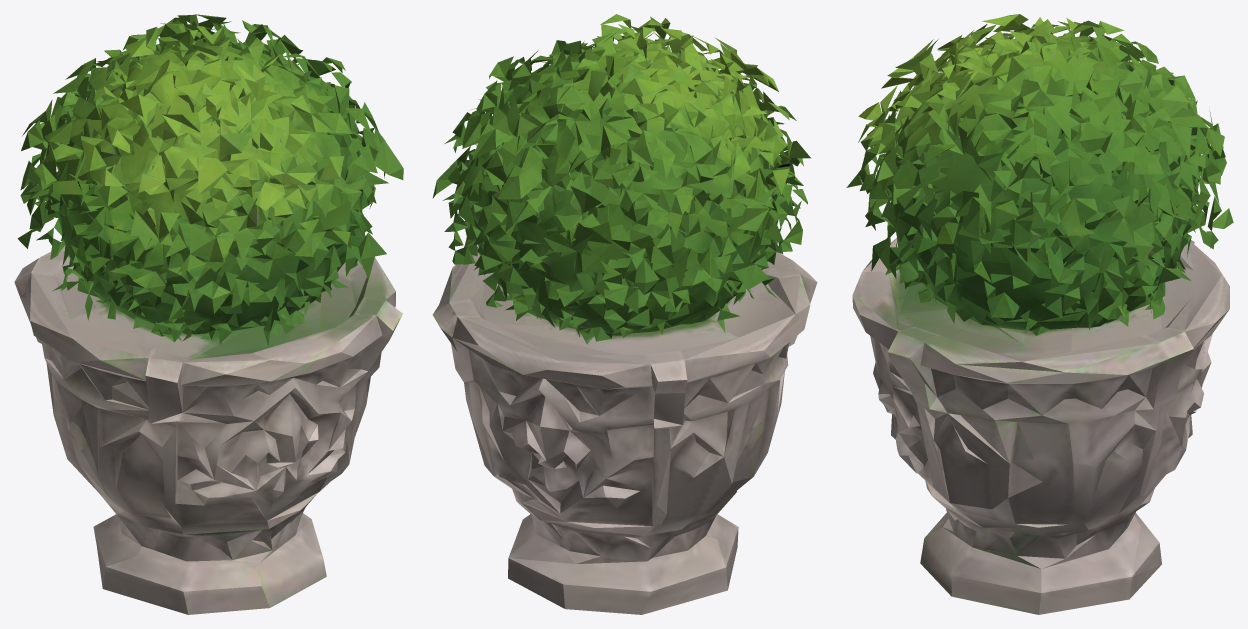
Rendered from town_topiary.glb.
3 views of the same model, side by side, from view 1: azimuth 30°, elevation 25°; view 2: azimuth 150°, elevation 25°; view 3: azimuth 270°, elevation 25° (orthographic).
Parts seen in each view (by area): view 1: output_unwrapped; view 2: output_unwrapped; view 3: output_unwrapped.
Part boxes in pixels (x1=…): output_unwrapped: x1=14, y1=14, x2=403, y2=614; output_unwrapped: x1=432, y1=14, x2=817, y2=614; output_unwrapped: x1=846, y1=14, x2=1233, y2=614.
Size of the model in its own units: 1.2 by 1.9 by 1.23.
Materials: 1 (1 with a texture image).
